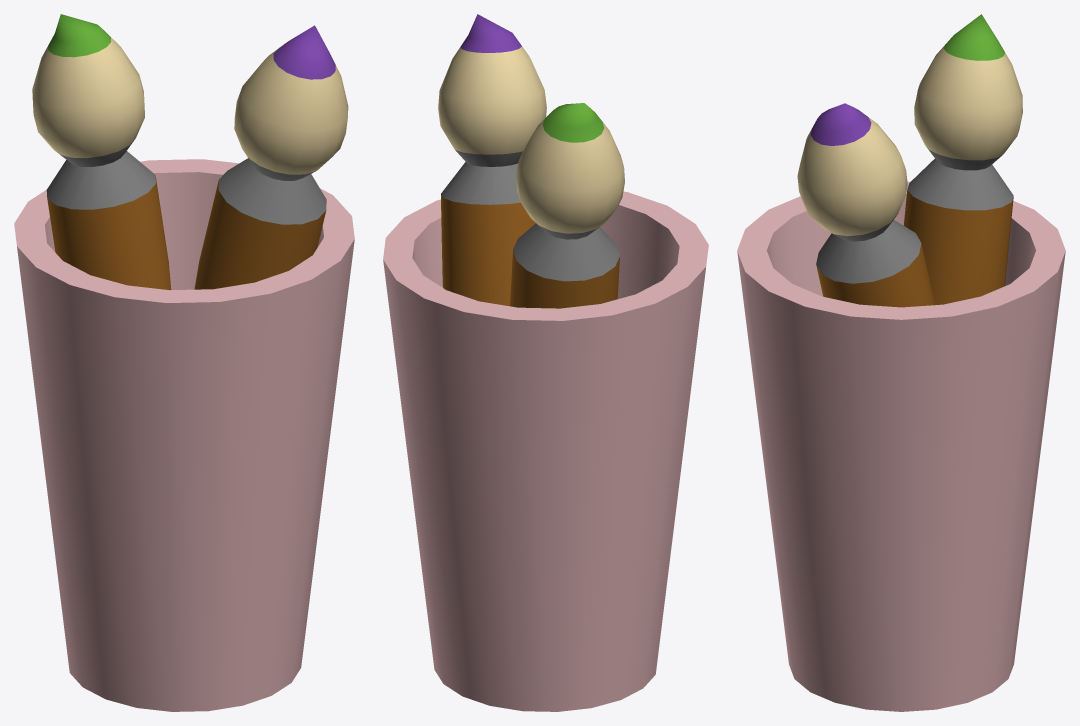
The model's file is paintBrushCup.fbx.
3 renders of one model, left to right at view 1: azimuth 30°, elevation 25°; view 2: azimuth 150°, elevation 25°; view 3: azimuth 270°, elevation 25°, orthographic. The views are drawn at different scales.
Visible parts, largest first — view 1: Paint Brush Cup; view 2: Paint Brush Cup; view 3: Paint Brush Cup.
Boxes of the visible parts, left/top/right/bottom form: Paint Brush Cup: left=14, top=14, right=354, bottom=711; Paint Brush Cup: left=383, top=14, right=708, bottom=711; Paint Brush Cup: left=737, top=14, right=1065, bottom=711.
Size of the model in its own units: 13.55 by 13.55 by 27.86.
